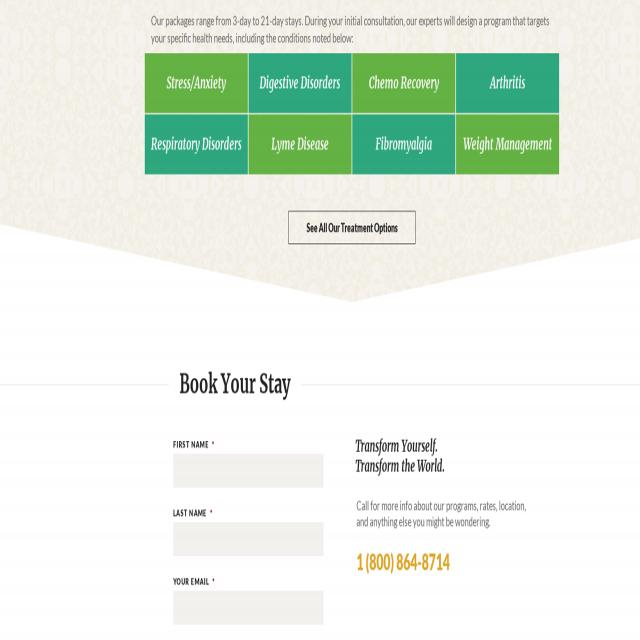button: (289, 211, 415, 244)
field: (173, 454, 323, 488), (173, 522, 323, 556), (173, 592, 323, 624)
